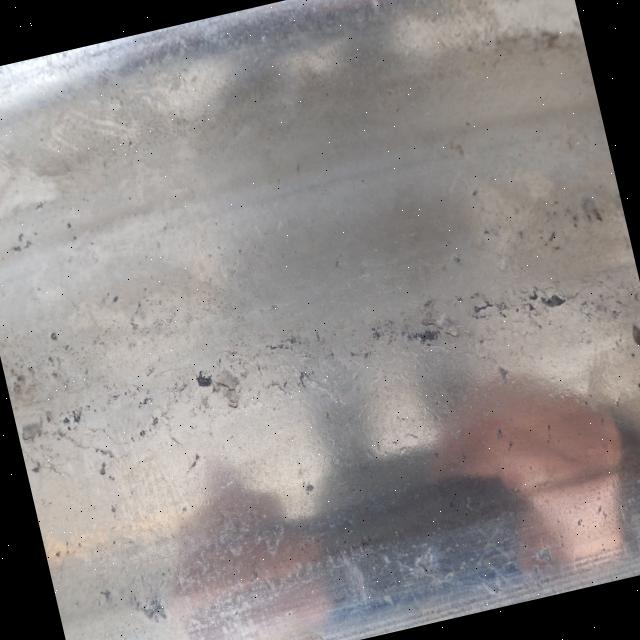Contact_Fatigue_Cracks: (57, 411, 142, 477), (474, 280, 567, 327), (132, 373, 179, 444), (333, 346, 394, 386), (255, 363, 294, 407), (29, 451, 59, 480)
Peeling: (196, 361, 246, 420), (413, 307, 463, 348), (18, 415, 53, 448)
